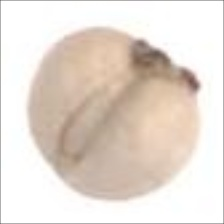L5: (58, 64, 143, 159), (129, 36, 203, 95), (37, 145, 79, 187)
L6: (23, 23, 207, 202)
